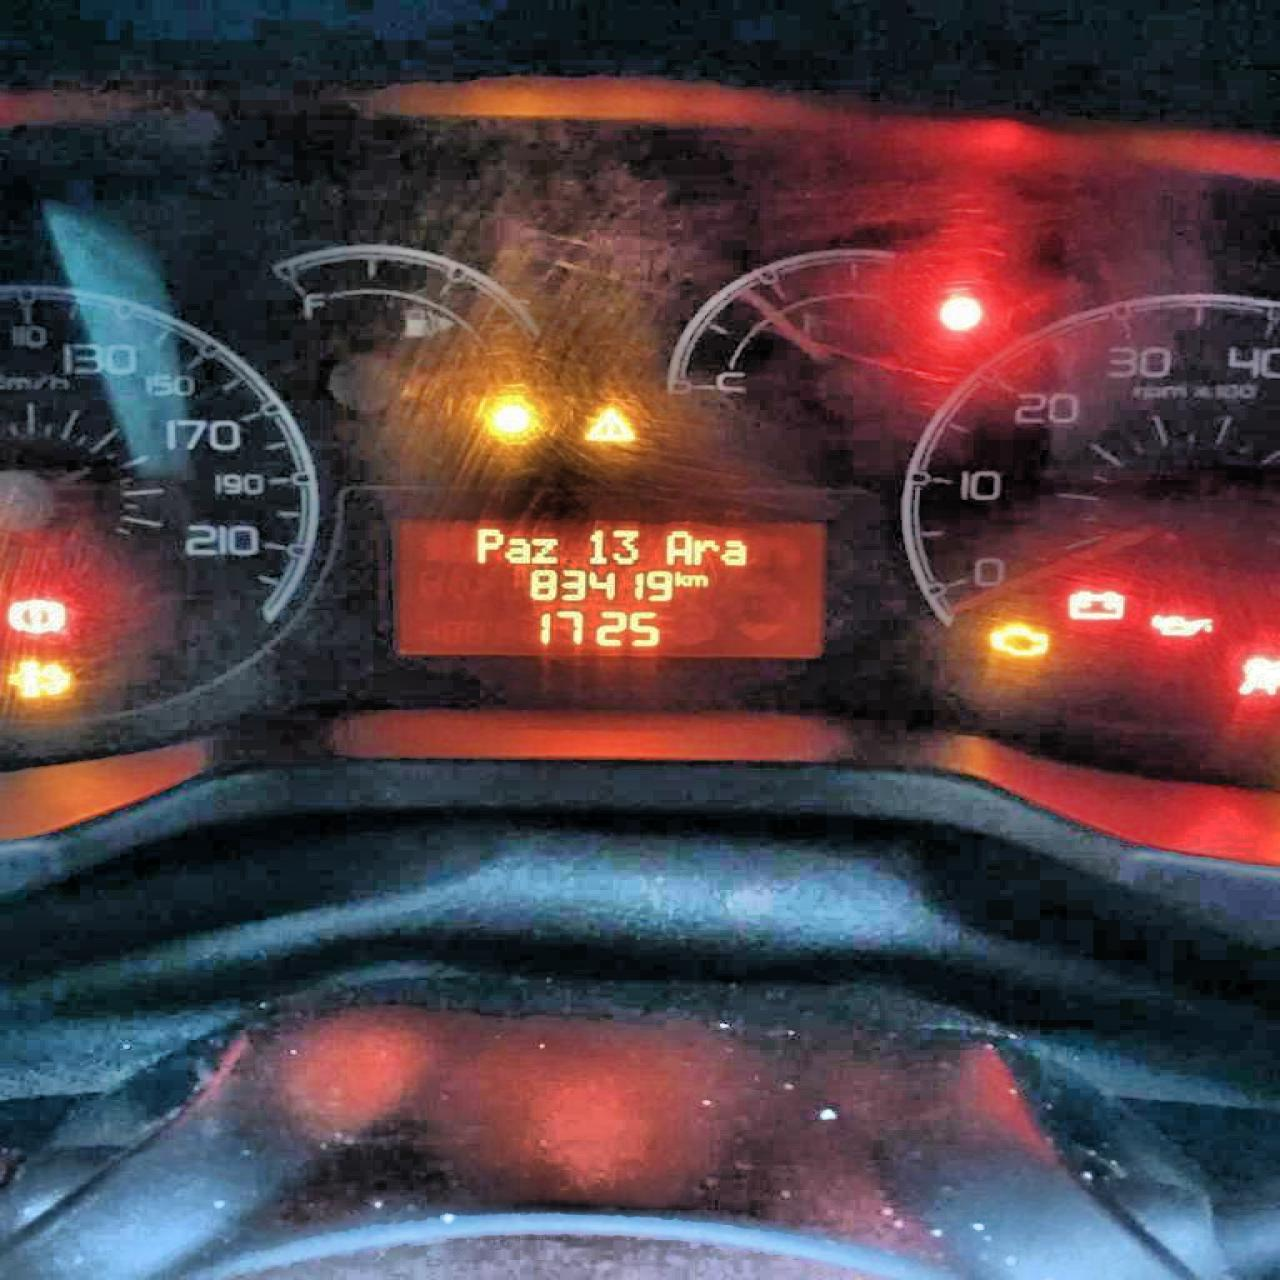1: (585, 527, 607, 564), (535, 607, 550, 647), (629, 567, 644, 600)
2: (593, 610, 627, 646)
3: (610, 527, 640, 566), (558, 567, 585, 601)
4: (586, 568, 617, 599)
5: (627, 608, 660, 647)
7: (553, 607, 584, 645)
8: (529, 568, 557, 600)
9: (645, 567, 672, 600)
X: (663, 529, 692, 565), (475, 526, 503, 563), (529, 533, 558, 563), (719, 536, 747, 565), (692, 537, 719, 565), (505, 535, 529, 564), (685, 572, 708, 587), (672, 568, 686, 586)
odometer: (388, 503, 835, 672)
